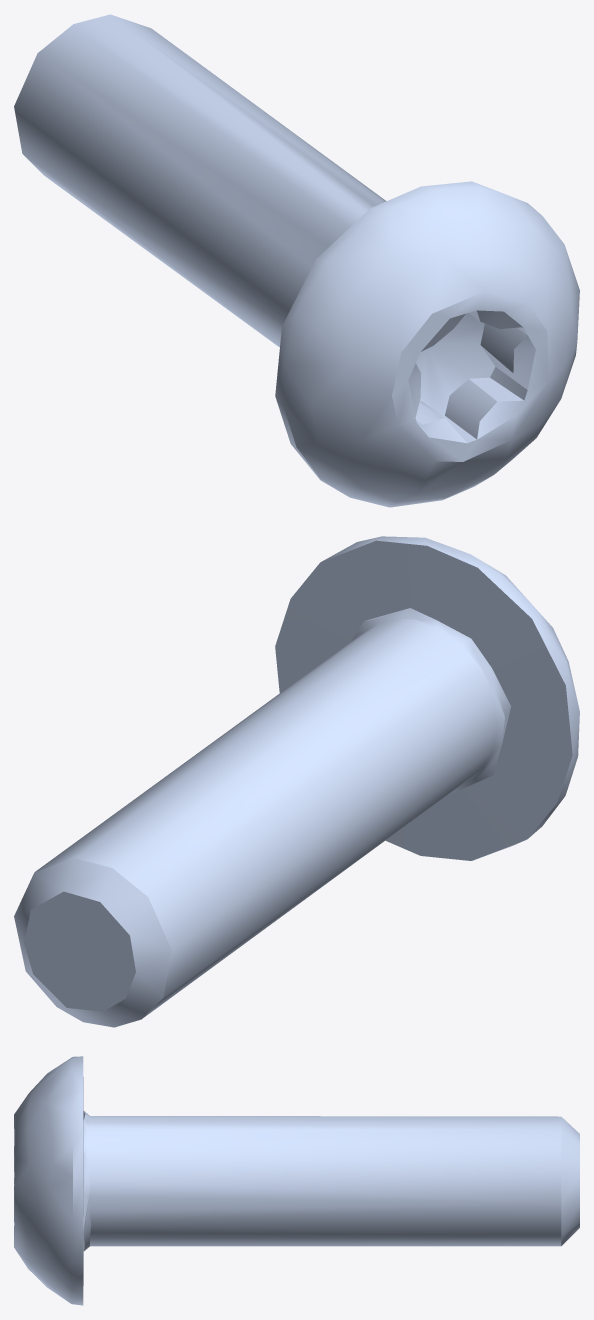
The model's file is _8-32_x_5_8_Star_Drive_Screw__276-4993_.glb.
3 renders of one model, top to bottom at view 1: azimuth 30°, elevation 25°; view 2: azimuth 150°, elevation 25°; view 3: azimuth 270°, elevation 25°, orthographic. The views are drawn at different scales.
Parts seen in each view (by area): view 1: #8-32 x 5_8 Star Drive Screw (276-4993); view 2: #8-32 x 5_8 Star Drive Screw (276-4993); view 3: #8-32 x 5_8 Star Drive Screw (276-4993).
Boxes of the visible parts, <box> form: #8-32 x 5_8 Star Drive Screw (276-4993): <box>14,14,579,507</box>; #8-32 x 5_8 Star Drive Screw (276-4993): <box>14,536,579,1027</box>; #8-32 x 5_8 Star Drive Screw (276-4993): <box>14,1056,579,1305</box>.
Size of the model in its own units: 0.3123 by 0.3131 by 0.7123.
